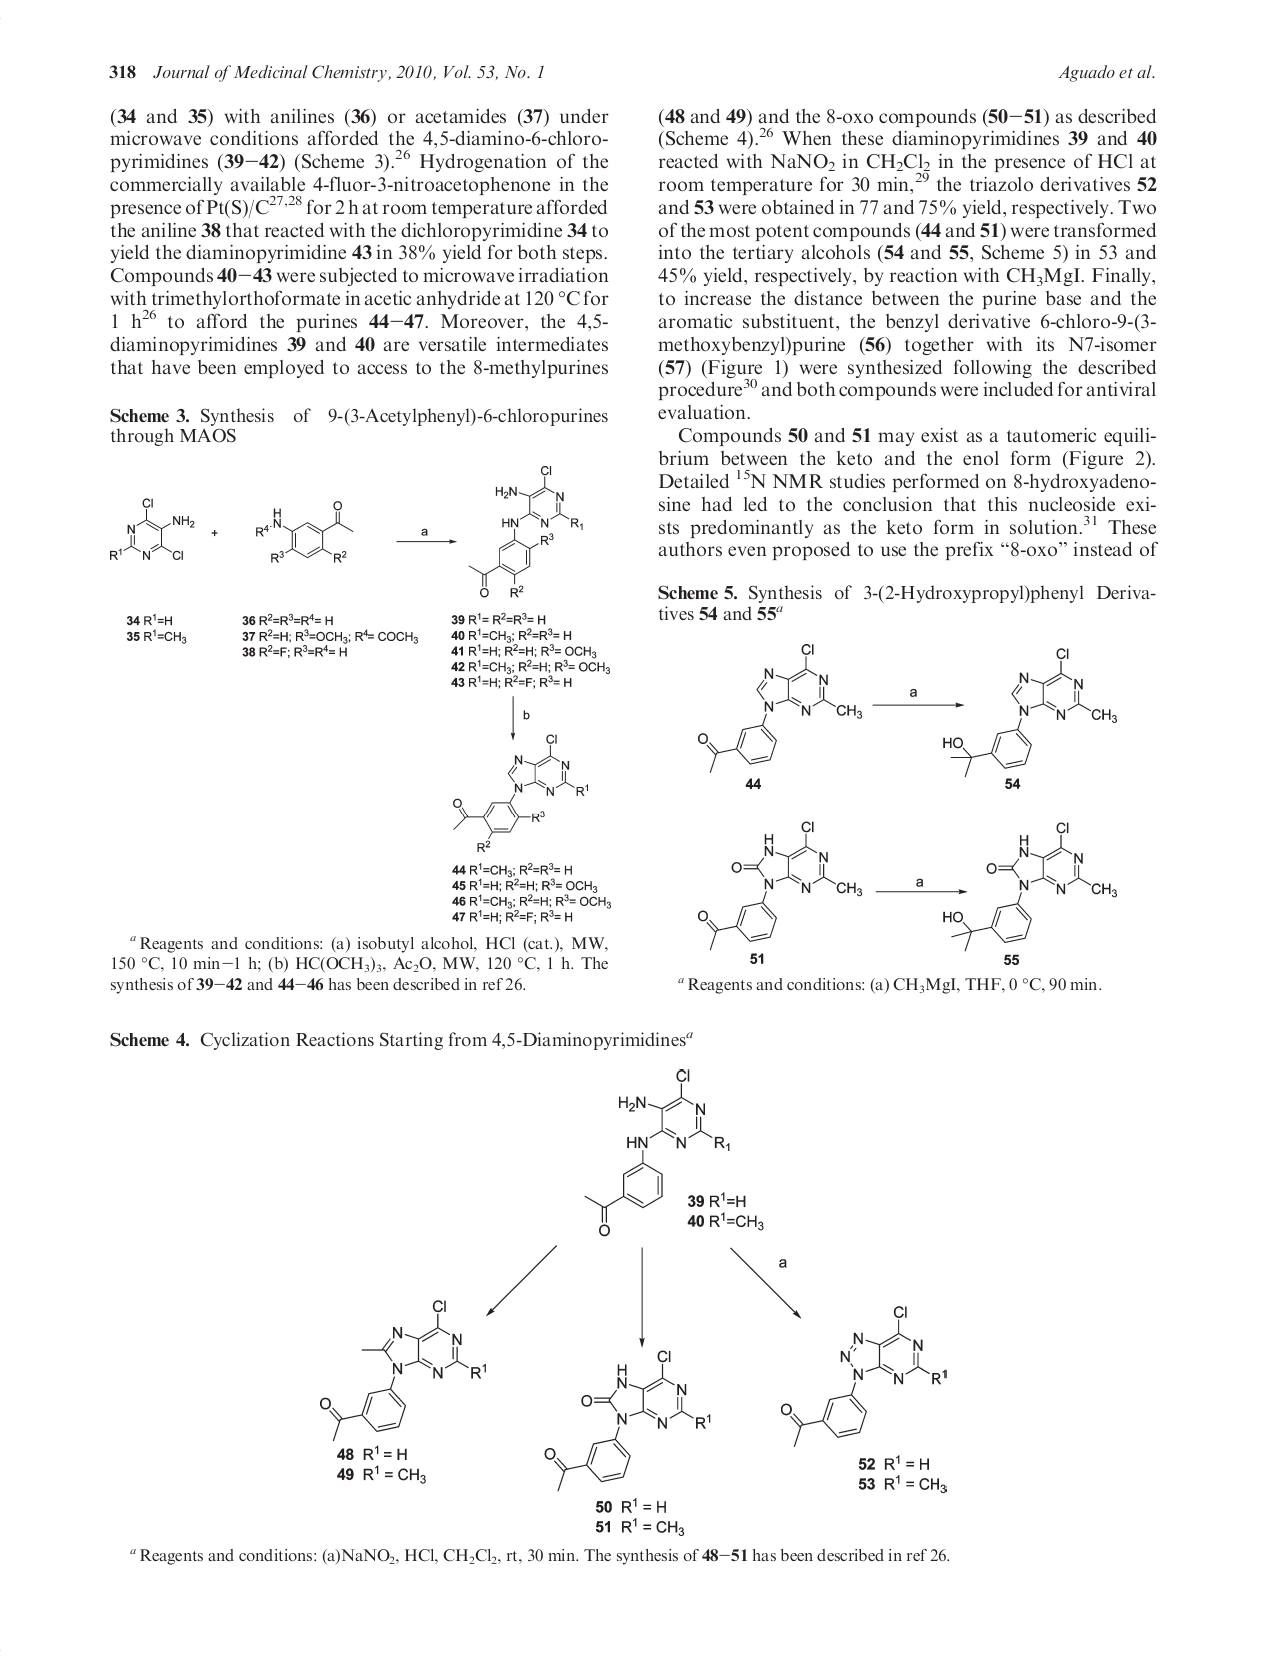exist_molecular: (584, 1067, 731, 1237), (781, 1303, 949, 1450), (320, 1298, 489, 1443), (939, 646, 1120, 781), (544, 1348, 711, 1492), (942, 821, 1118, 952), (696, 817, 866, 951), (696, 644, 862, 774), (451, 730, 590, 854), (465, 461, 580, 598), (255, 497, 355, 565), (106, 497, 195, 565)
